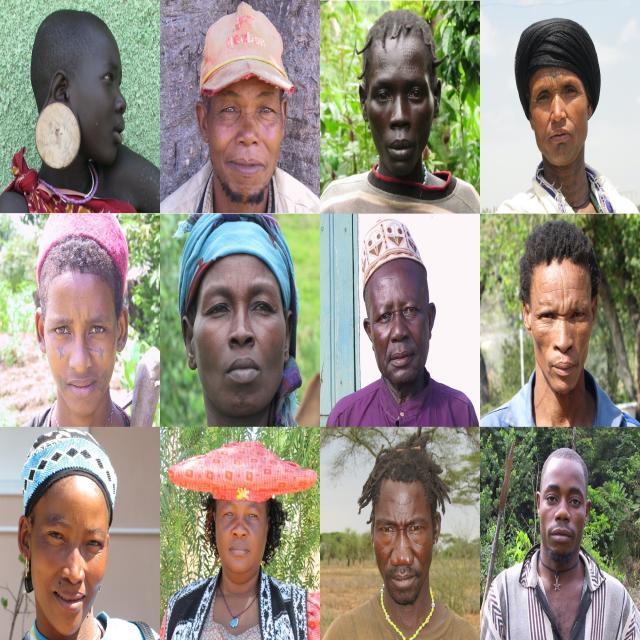sem_oculos: (30, 288, 133, 342), (176, 288, 294, 334), (196, 82, 289, 130), (20, 505, 109, 555), (354, 72, 444, 112), (522, 293, 600, 330), (59, 58, 130, 95), (367, 510, 446, 538), (534, 481, 593, 518), (360, 302, 440, 328), (215, 498, 278, 530), (522, 80, 592, 107)
